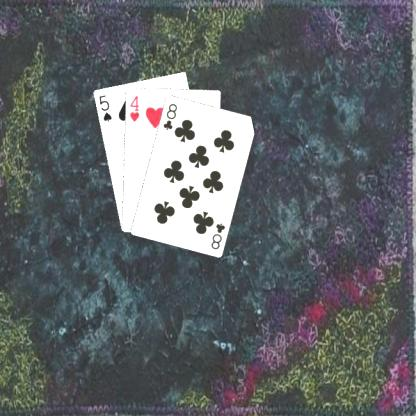4H: (127, 93, 140, 123)
5S: (96, 91, 113, 123)
8C: (208, 219, 227, 251), (160, 101, 179, 131)
